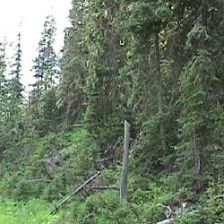neutral: (1, 3, 224, 222)
